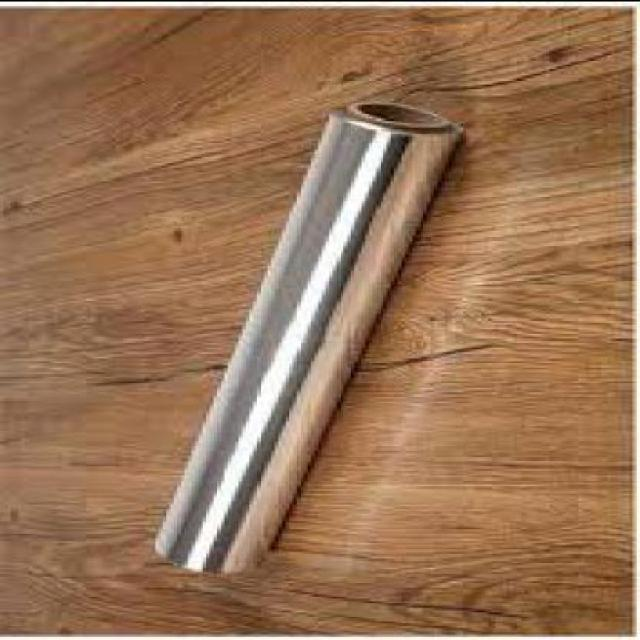METAL: (152, 100, 466, 568)
